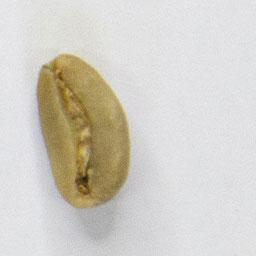longberry: (33, 51, 133, 213)
